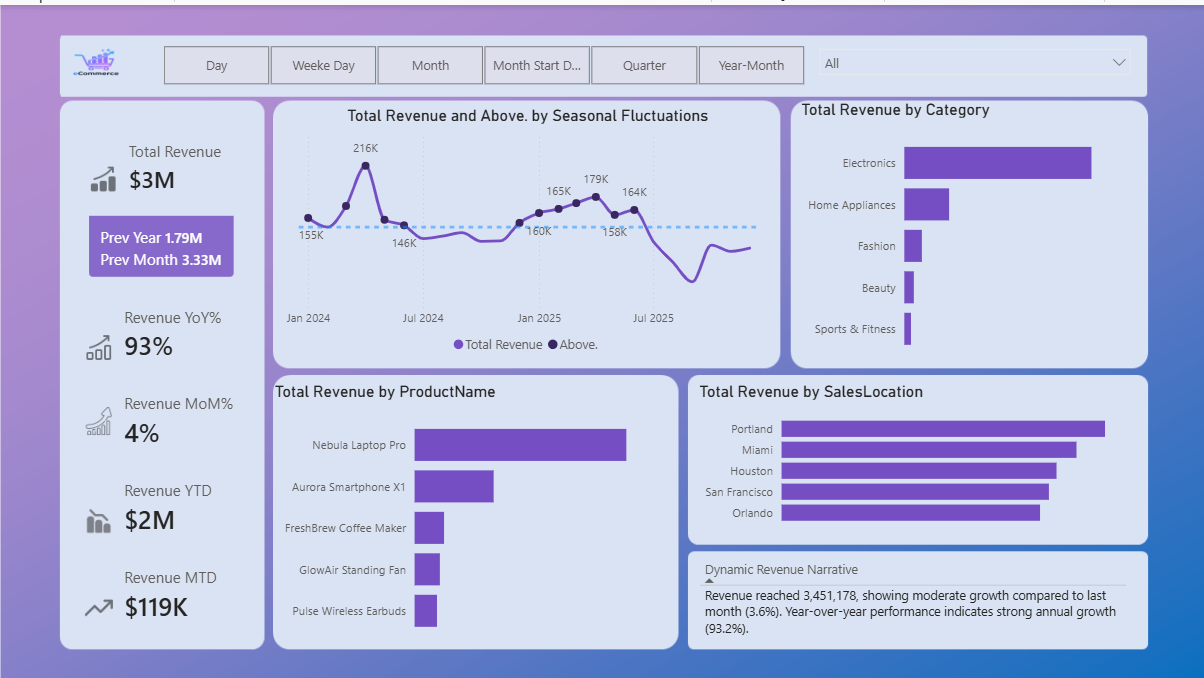

What the dashboard file says about the page in this screenshot:
{"tool":"powerbi","page":{"name":"Page 1","canvas":[1280,720],"ordinal":0},"visuals":[{"type":"cardVisual","fields":{"Data":["DAX.Revenue YoY%","DAX.Revenue MoM%","DAX.Revenue YTD","DAX.Revenue MTD"]},"box":[60.6,302,221.1,381.6],"z":0},{"type":"lineChart","title":"Total Revenue and Above. by Seasonal Fluctuations ","fields":{"Category":["Calendar.Day Short Name","Calendar.Is Weekend","Calendar.Month Short","Calendar.Month Start Date","Calendar.Quarter","Calendar.Year-Month"],"Y":["DAX.Total Revenue","select","select1"]},"box":[297.9,106,524.3,272.2],"z":1000},{"type":"slicer","fields":{"Values":["Grouped Date.Grouped Date"]},"box":[147.9,36.6,728.5,54.1],"z":2000},{"type":"clusteredBarChart","fields":{"Y":["DAX.Total Revenue"],"Category":["Sales.ProductName"]},"box":[286.5,399.6,431.1,283.6],"z":3000},{"type":"clusteredBarChart","fields":{"Category":["Sales.Category"],"Y":["DAX.Total Revenue"]},"box":[845.1,100.3,363.8,283.6],"z":4000},{"type":"clusteredBarChart","fields":{"Y":["DAX.Total Revenue"],"Category":["Sales.SalesLocation"]},"box":[736.2,399.6,472.7,161.9],"z":5000},{"type":"cardVisual","fields":{"Data":["DAX.Total Revenue"]},"box":[60.6,99.9,221.1,222.6],"z":6000},{"type":"tableEx","fields":{"Values":["DAX.Dynamic Revenue Narrative 1"]},"box":[736.2,583,472.7,100.3],"z":7000},{"type":"slicer","fields":{"Values":["Calendar.Month Short"]},"box":[858.9,36.6,349.9,54.1],"z":8000}]}

Visuals, with their boxes in screenshot pixels (x1, y1, x2, y2), scaled from the page's 1280x720 canvas onto the 1204x678 screenshot:
cardVisual - DAX.Revenue YoY% x DAX.Revenue MoM%: locate(57, 284, 265, 644)
"Total Revenue and Above. by Seasonal Fluctuations " lineChart: locate(280, 100, 773, 356)
slicer - Grouped Date.Grouped Date: locate(139, 34, 824, 85)
clusteredBarChart - DAX.Total Revenue x Sales.ProductName: locate(269, 376, 675, 643)
clusteredBarChart - Sales.Category x DAX.Total Revenue: locate(795, 94, 1137, 362)
clusteredBarChart - DAX.Total Revenue x Sales.SalesLocation: locate(692, 376, 1137, 529)
cardVisual - DAX.Total Revenue: locate(57, 94, 265, 304)
tableEx - DAX.Dynamic Revenue Narrative 1: locate(692, 549, 1137, 643)
slicer - Calendar.Month Short: locate(808, 34, 1137, 85)
